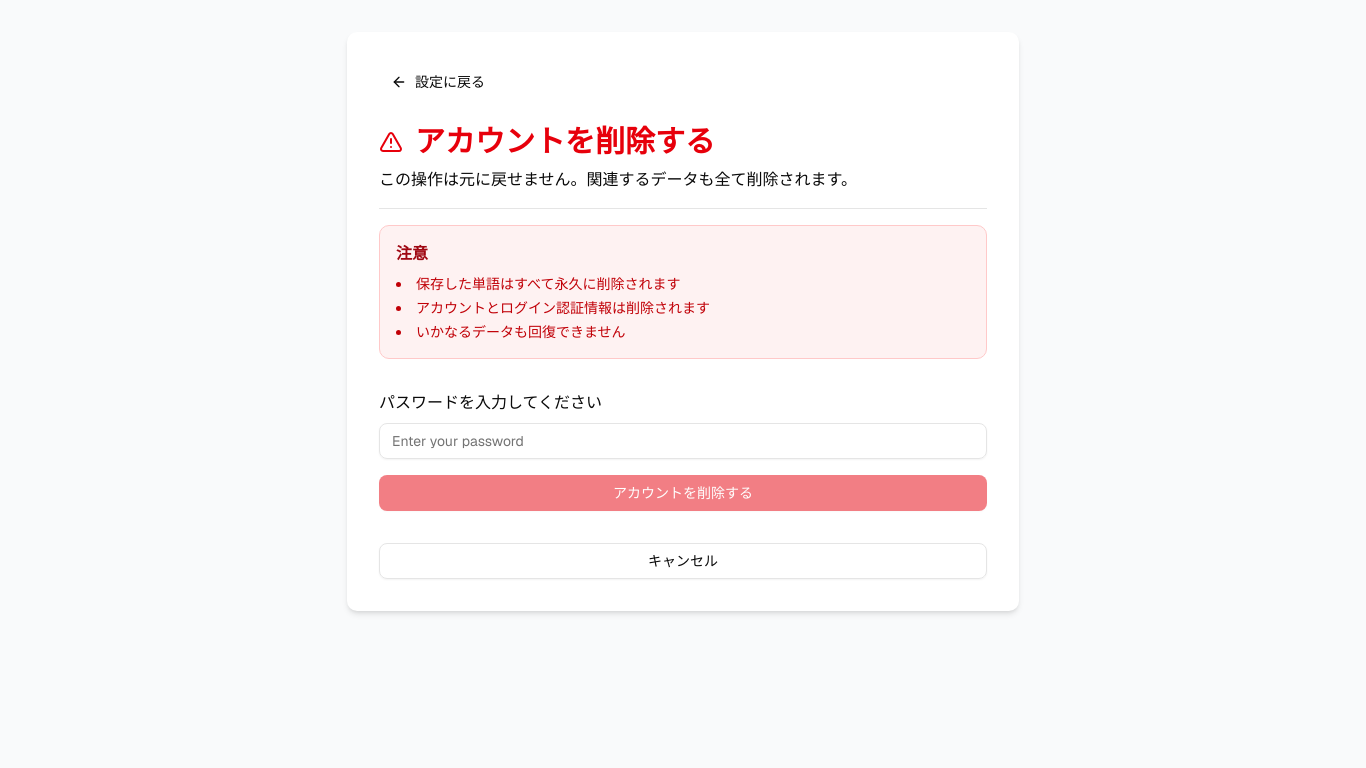
Test: DeleteAccount › APIがエラーを返した場合はエラーメッセージが表示される
The width and height of the screenshot is (1366, 768).
In the password field with placeholder "Enter your password": (683, 441) [379,423,987,459], type "wrong-password"
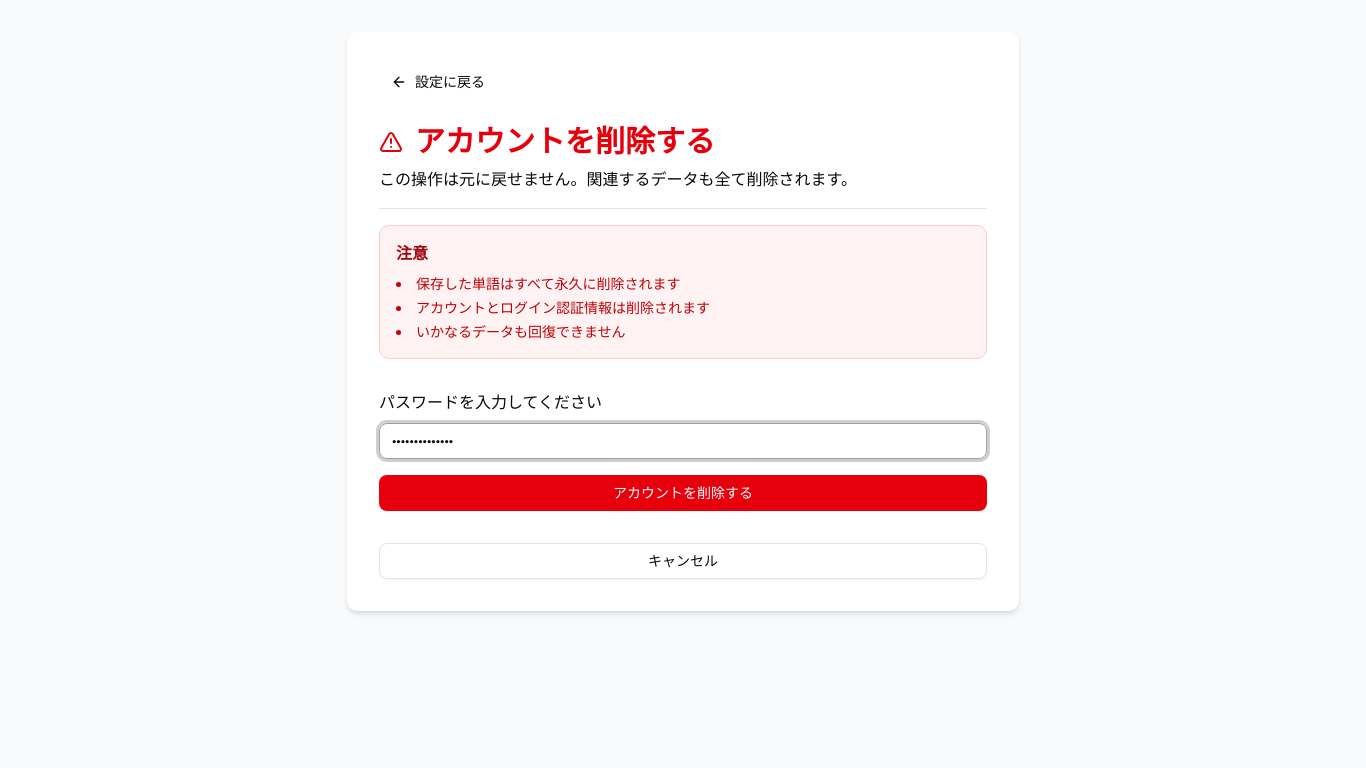
Click the button "アカウントを削除する": (683, 493) [379,475,987,511]
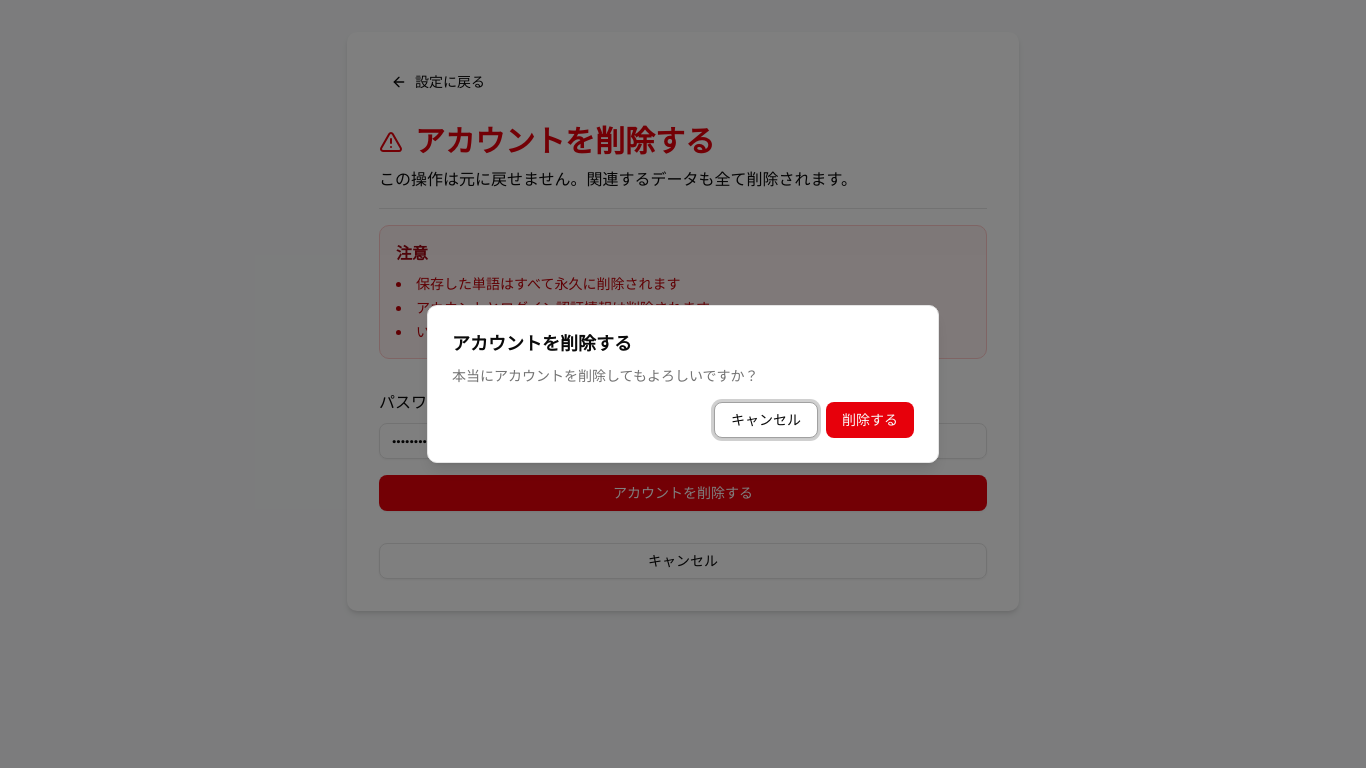
Click the button "削除する": (870, 420) [826,402,914,438]
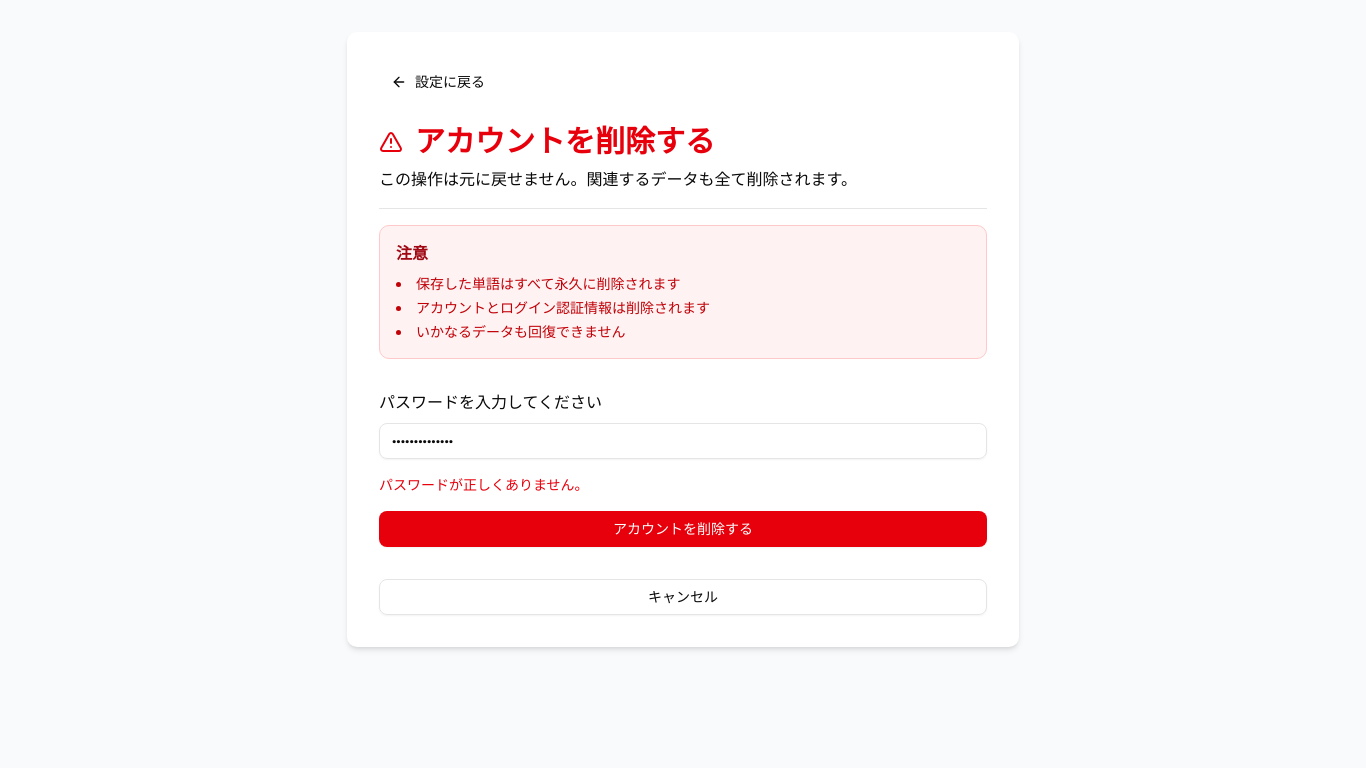
Result: the text "パスワードが正しくありません。" is shown at [379,476,589,494]
